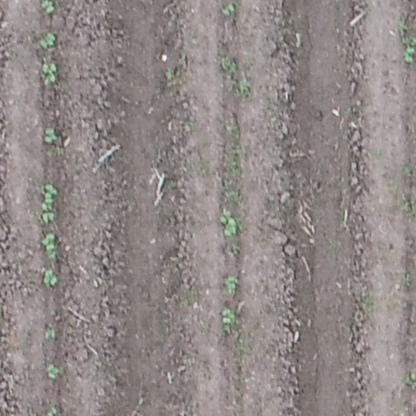vc: (219, 207, 241, 236), (40, 230, 60, 259), (39, 62, 60, 85), (218, 304, 239, 325), (39, 184, 56, 208), (225, 274, 242, 297), (399, 43, 415, 64), (38, 31, 56, 48), (45, 362, 62, 380), (43, 267, 59, 286), (42, 126, 57, 146), (220, 2, 237, 15), (38, 212, 56, 223), (41, 1, 57, 13), (43, 327, 56, 341)
